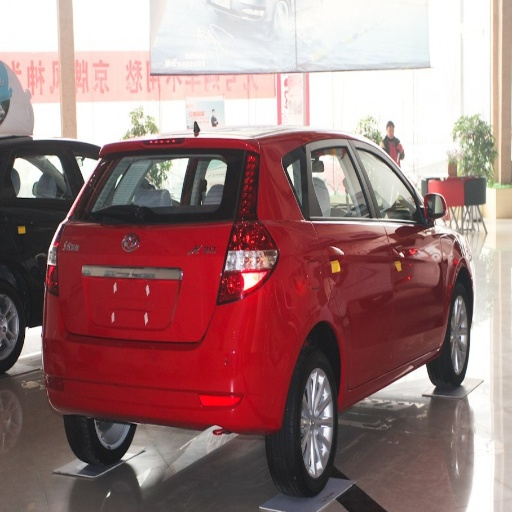back_bumper: (50, 283, 303, 434)
back_right_door: (302, 140, 394, 381)
tailgate: (105, 238, 223, 345)
trunk: (59, 220, 233, 338)
